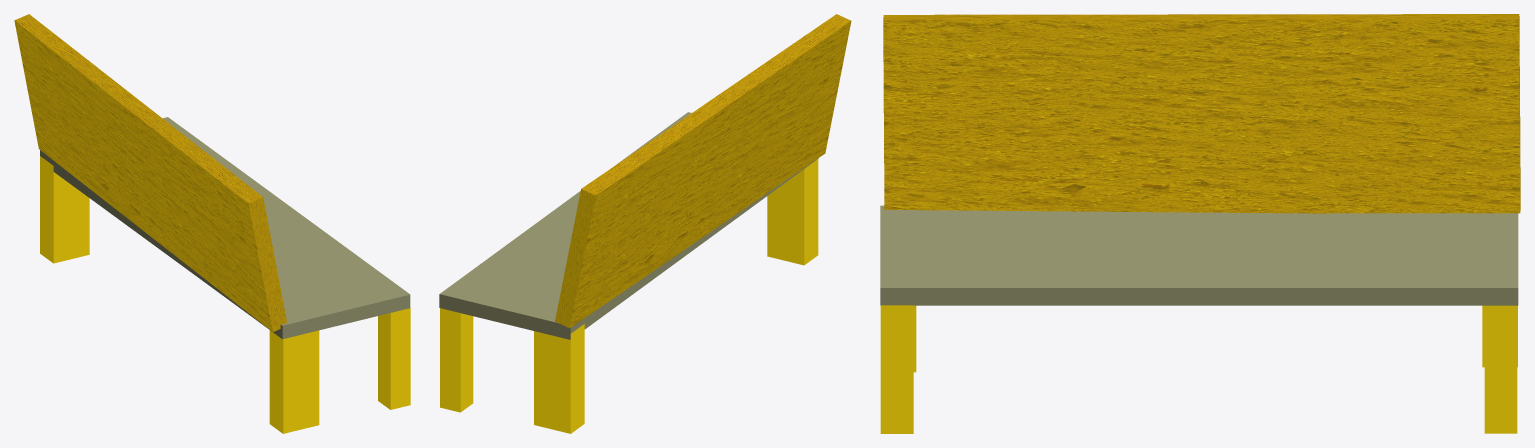
The model's file is bench.gltf.
The picture shows the model from 3 angles, left to right: view 1: azimuth 30°, elevation 25°; view 2: azimuth 150°, elevation 25°; view 3: azimuth 270°, elevation 25°; orthographic projection. The views are drawn at different scales.
Visible parts, largest first — view 1: Box (×5); view 2: Box (×5); view 3: Box (×4).
Part boxes in pixels (bbox=[...]): Box (×5): bbox=[14, 14, 410, 433]; Box (×5): bbox=[439, 14, 851, 433]; Box (×4): bbox=[880, 14, 1520, 433].
Size of the model in its own units: 1.72 by 2.53 by 4.52.
Materials: 6 (1 with a texture image).
